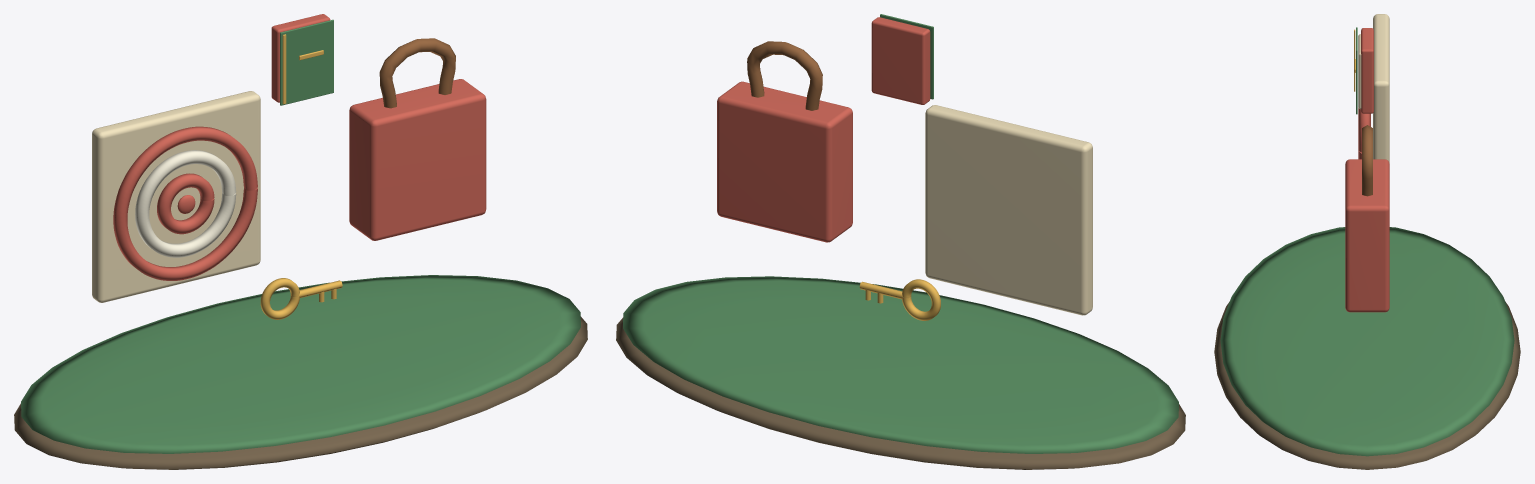
The model's file is complete-first-ready-target-kit.glb.
3 views of the same model, side by side, from view 1: azimuth 30°, elevation 25°; view 2: azimuth 150°, elevation 25°; view 3: azimuth 270°, elevation 25° (orthographic). The views are drawn at different scales.
Parts seen in each view (by area): view 1: complete-first-ready-target-kit_surface_01, complete-first-ready-target-kit_surface_03, complete-first-ready-target-kit_surface_02, complete-first-ready-target-kit_surface_00, complete-first-ready-target-kit_surface_04, complete-first-ready-target-kit_surface_05, complete-first-ready-target-kit_surface_06; view 2: complete-first-ready-target-kit_surface_01, complete-first-ready-target-kit_surface_02, complete-first-ready-target-kit_surface_03, complete-first-ready-target-kit_surface_00, complete-first-ready-target-kit_surface_05, complete-first-ready-target-kit_surface_06; view 3: complete-first-ready-target-kit_surface_01, complete-first-ready-target-kit_surface_03, complete-first-ready-target-kit_surface_00, complete-first-ready-target-kit_surface_02, complete-first-ready-target-kit_surface_05.
Part boxes in pixels (<box>): complete-first-ready-target-kit_surface_01: <box>21,19,580,453</box>; complete-first-ready-target-kit_surface_03: <box>113,14,486,280</box>; complete-first-ready-target-kit_surface_02: <box>92,91,260,302</box>; complete-first-ready-target-kit_surface_00: <box>14,316,587,469</box>; complete-first-ready-target-kit_surface_04: <box>135,150,236,257</box>; complete-first-ready-target-kit_surface_05: <box>379,38,455,108</box>; complete-first-ready-target-kit_surface_06: <box>260,34,342,319</box>; complete-first-ready-target-kit_surface_01: <box>623,14,1178,453</box>; complete-first-ready-target-kit_surface_02: <box>925,105,1092,315</box>; complete-first-ready-target-kit_surface_03: <box>717,17,930,242</box>; complete-first-ready-target-kit_surface_00: <box>616,317,1185,469</box>; complete-first-ready-target-kit_surface_05: <box>747,41,822,110</box>; complete-first-ready-target-kit_surface_06: <box>859,279,940,320</box>; complete-first-ready-target-kit_surface_01: <box>1220,27,1514,456</box>; complete-first-ready-target-kit_surface_03: <box>1345,28,1389,312</box>; complete-first-ready-target-kit_surface_00: <box>1214,301,1520,469</box>; complete-first-ready-target-kit_surface_02: <box>1358,14,1389,163</box>; complete-first-ready-target-kit_surface_05: <box>1362,125,1372,196</box>.
Size of the model in its own units: 4.56 by 2.95 by 2.5.
